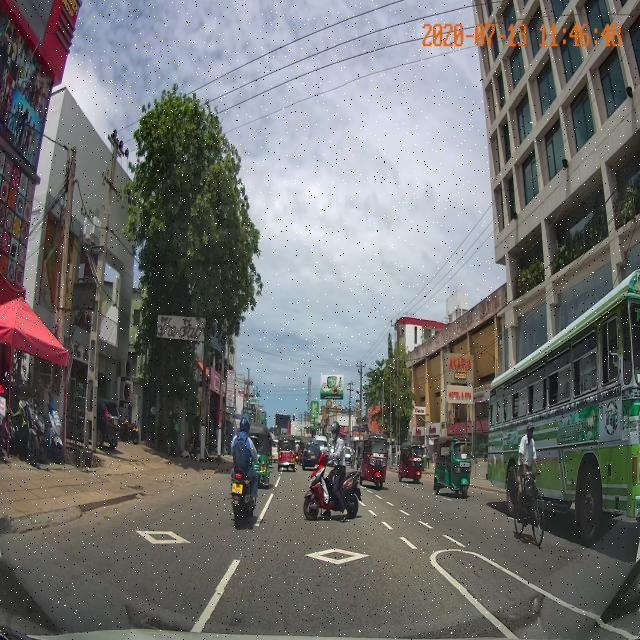diamond: (206, 535, 463, 590)
